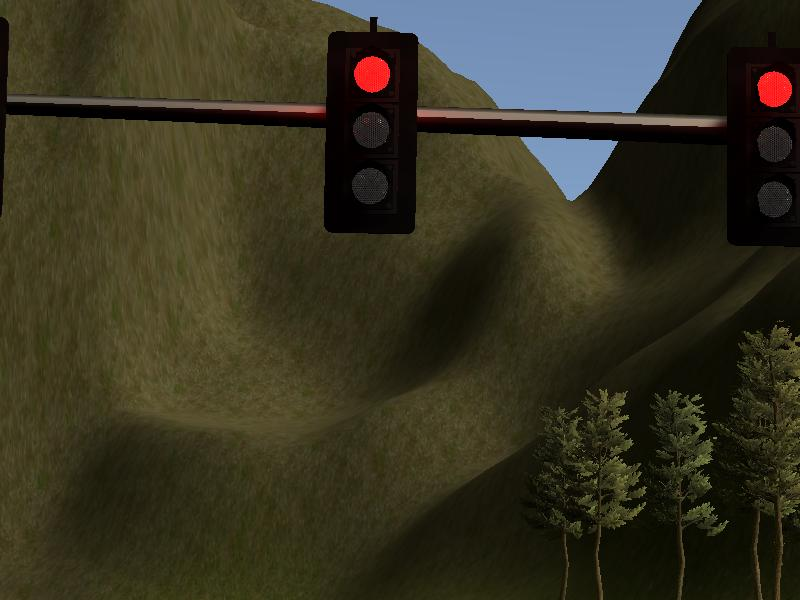red: (321, 30, 417, 234), (726, 50, 800, 248)
